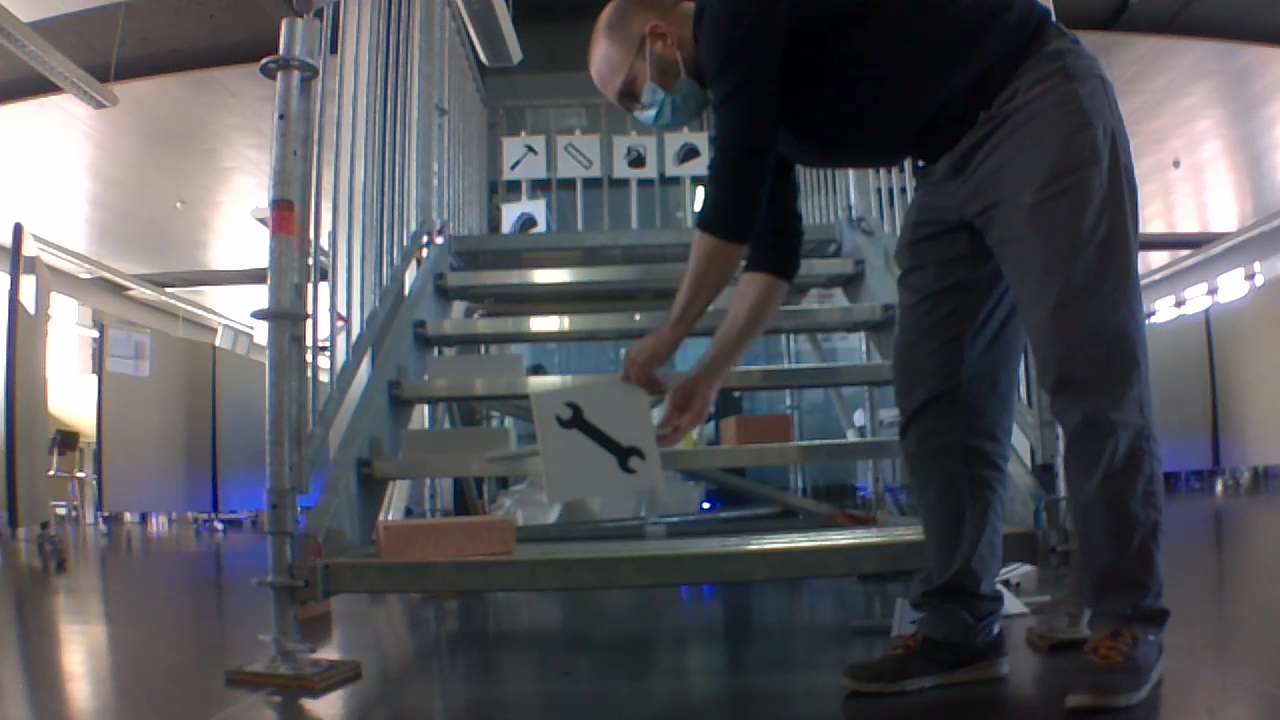brick: (376, 515, 514, 558), (397, 428, 512, 464), (428, 354, 523, 383), (719, 414, 790, 444)
bucket: (615, 139, 651, 172)
hammer: (504, 141, 541, 176)
ruler: (561, 136, 594, 171)
taco: (669, 138, 703, 169), (506, 205, 538, 236)
wrench: (548, 396, 650, 479)
